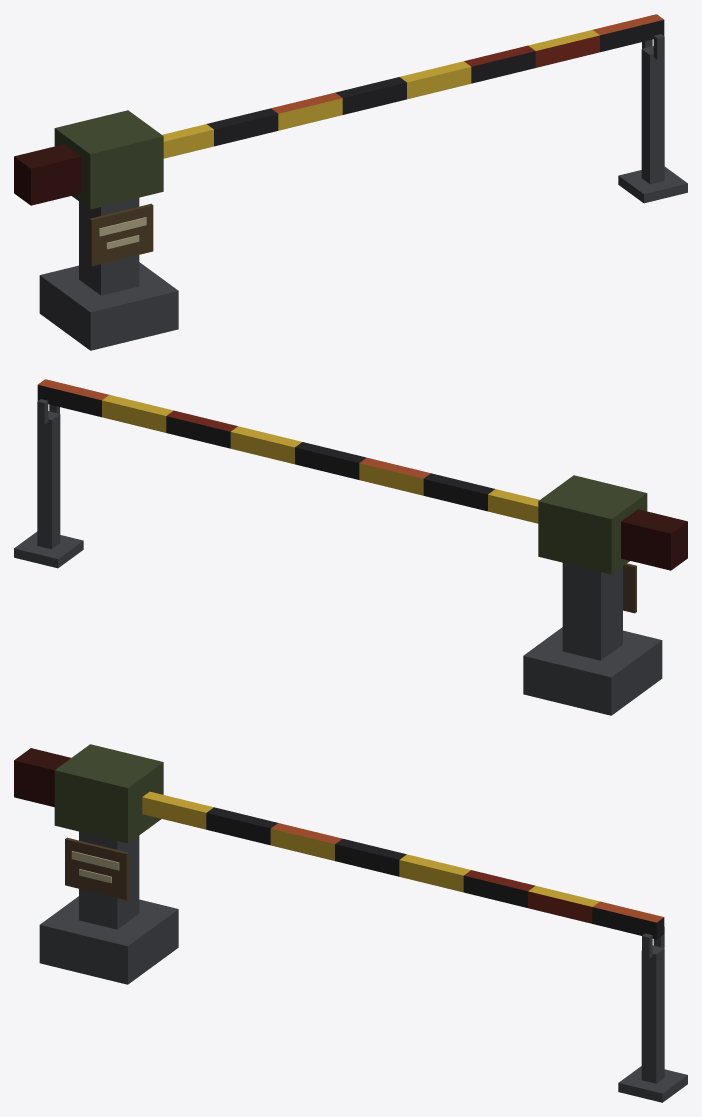
File: hollis_boom_gate.glb
The picture shows the model from 3 angles, top to bottom: view 1: azimuth 30°, elevation 25°; view 2: azimuth 150°, elevation 25°; view 3: azimuth 330°, elevation 25°; orthographic projection.
Parts seen in each view (by area): view 1: hollis_boom_gate; view 2: hollis_boom_gate; view 3: hollis_boom_gate.
Boxes of the visible parts, left/top/right/bottom form: hollis_boom_gate: left=14, top=14, right=687, bottom=350; hollis_boom_gate: left=14, top=379, right=687, bottom=715; hollis_boom_gate: left=14, top=744, right=687, bottom=1102.
Bounding box in the file's own units: 4.44 × 1.23 × 0.6.
